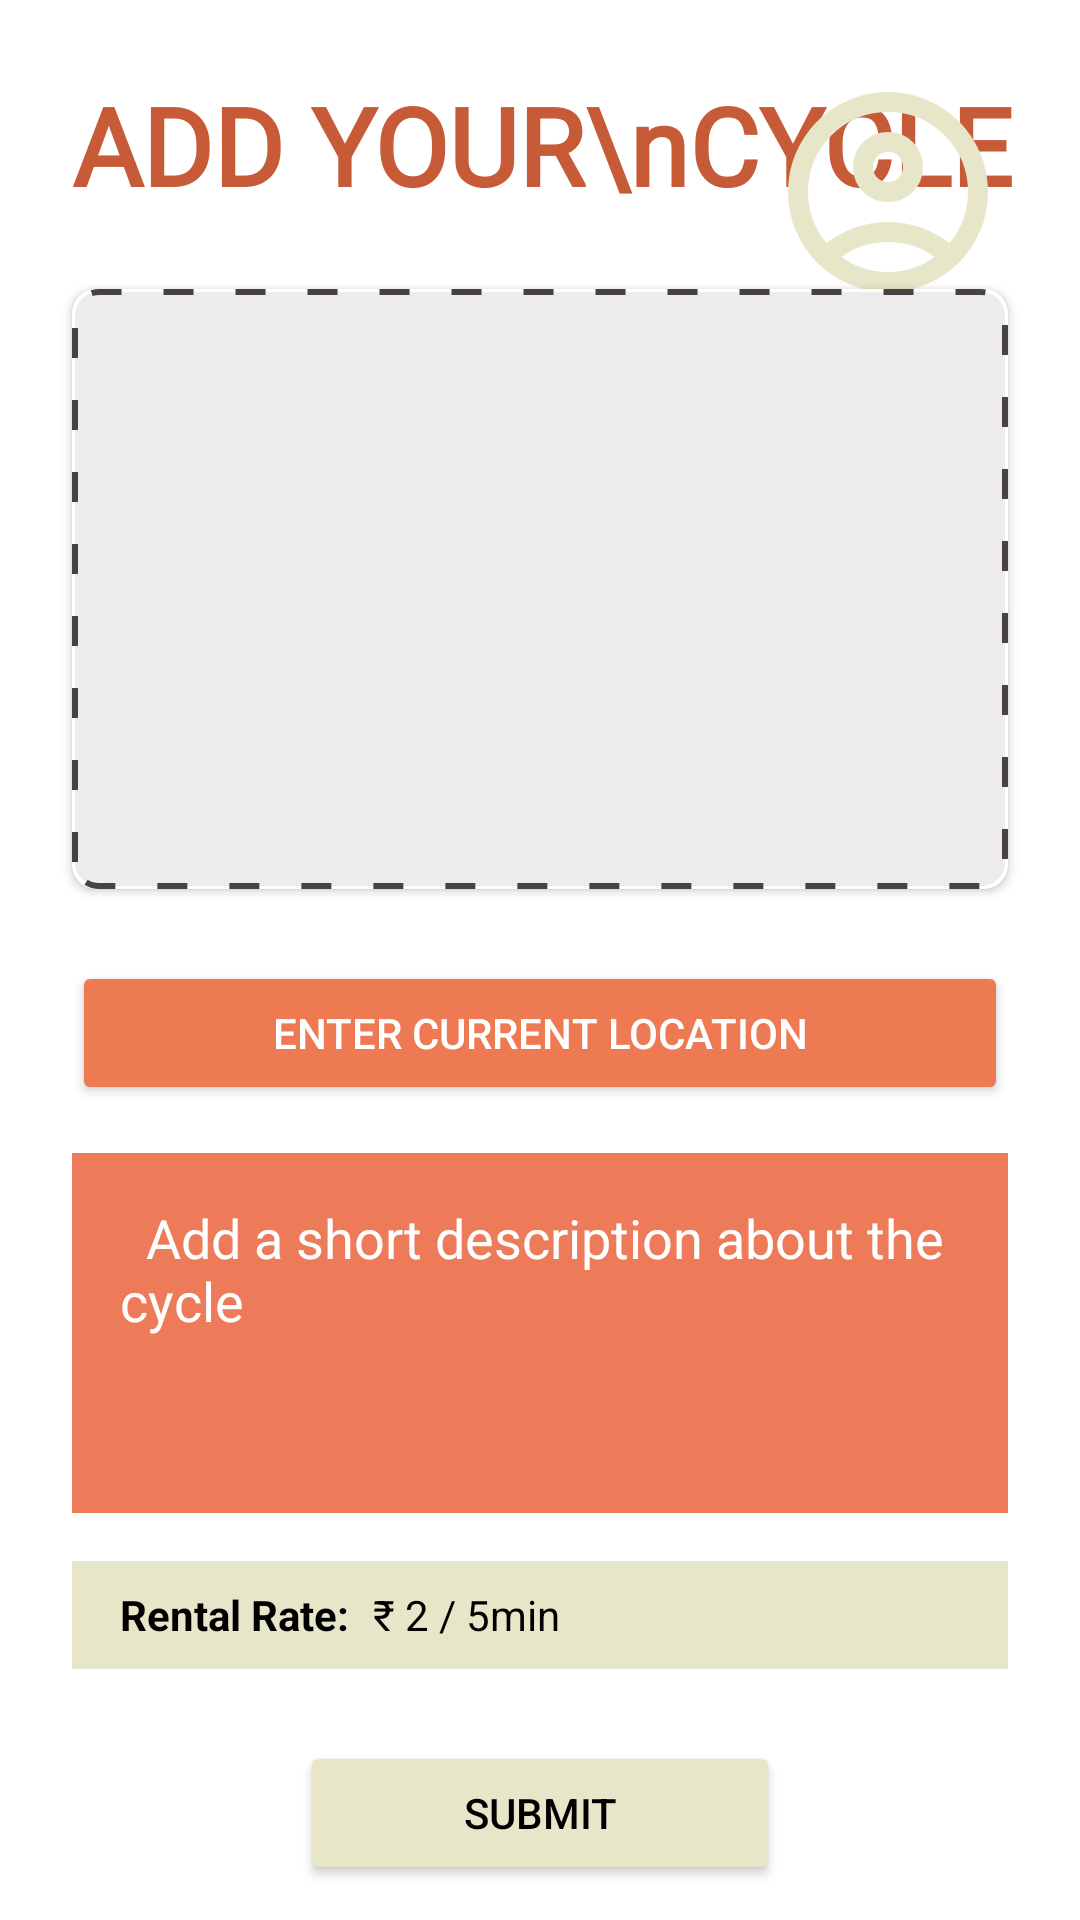

Locate icon controls on the screen. Image size 1080*1920, boxes as (x1, y1, x2, y2).
account: (768, 92, 1008, 307)
